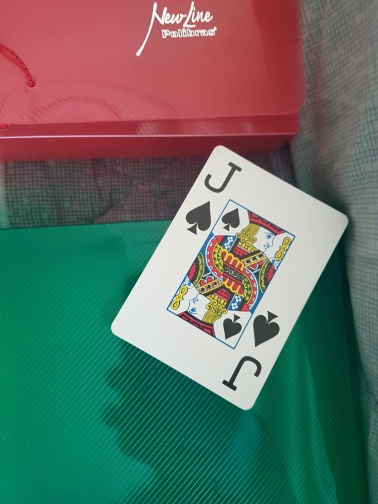jack: (111, 146, 346, 409)
